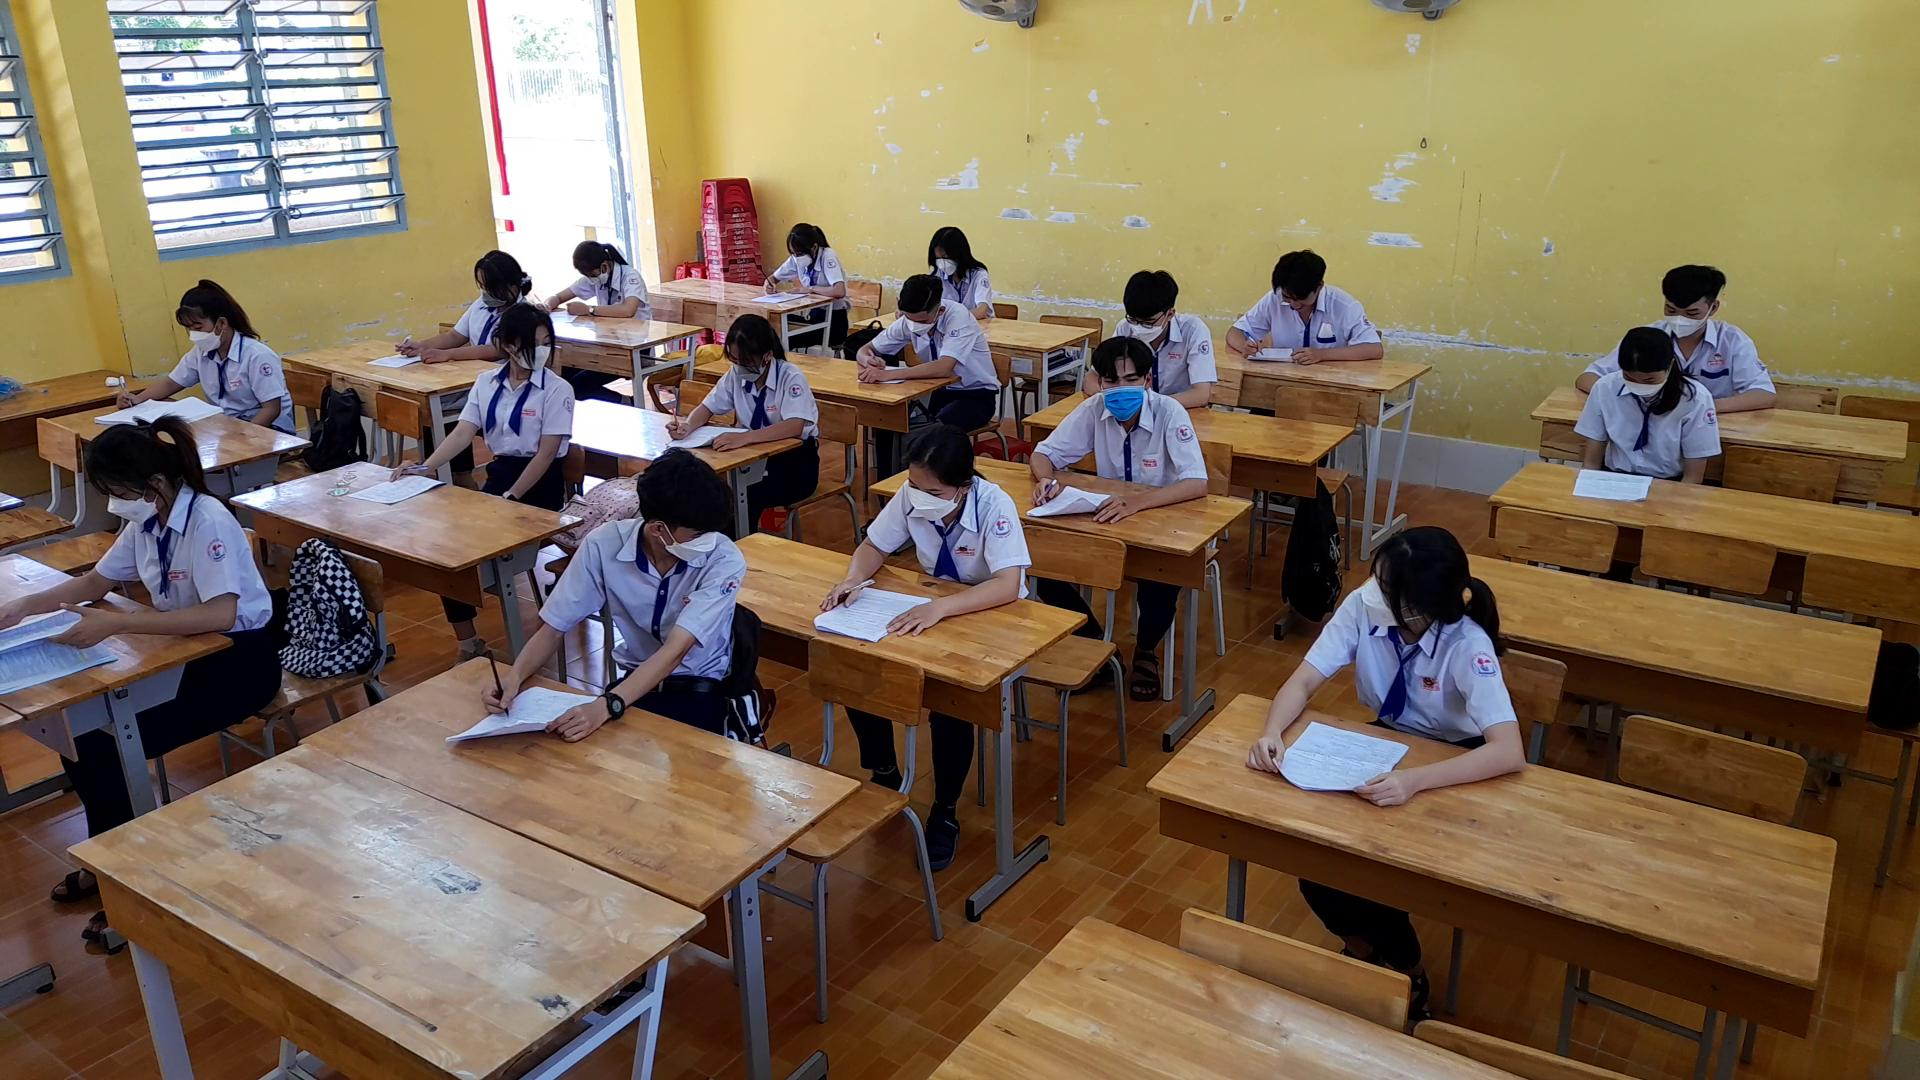Hand Under Table: (500, 377, 564, 502), (1673, 386, 1725, 498), (1575, 371, 1611, 473)
Look Around: (1367, 524, 1481, 637), (632, 462, 756, 563), (487, 303, 582, 382)
Normal: (4, 411, 269, 644), (804, 413, 1029, 644), (1027, 334, 1226, 520), (651, 318, 818, 451), (848, 262, 1000, 398), (1229, 233, 1385, 357), (549, 225, 644, 323), (757, 219, 853, 294)
